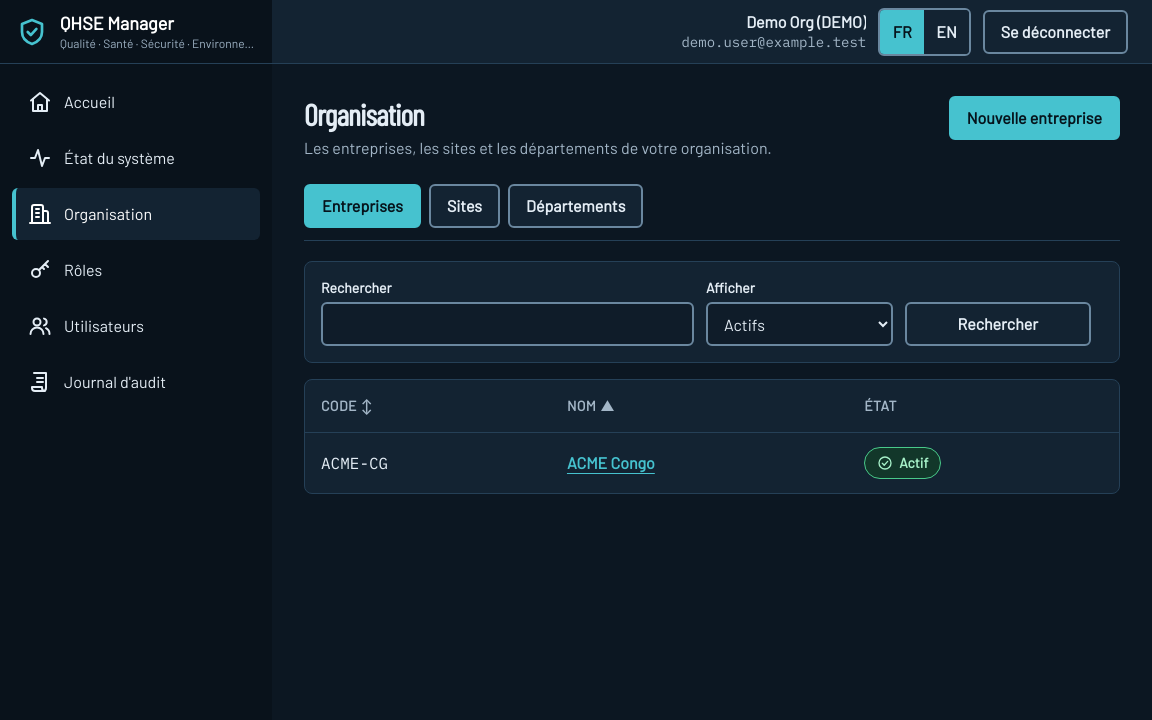
Test: organisation lists › opens on the companies and switches between the three lists
Expected: the link "ACME Congo" is shown, top-left (567, 453), bottom-right (655, 472)
Click the link "Sites".
click(464, 206)  # box top-left (429, 184), bottom-right (500, 228)
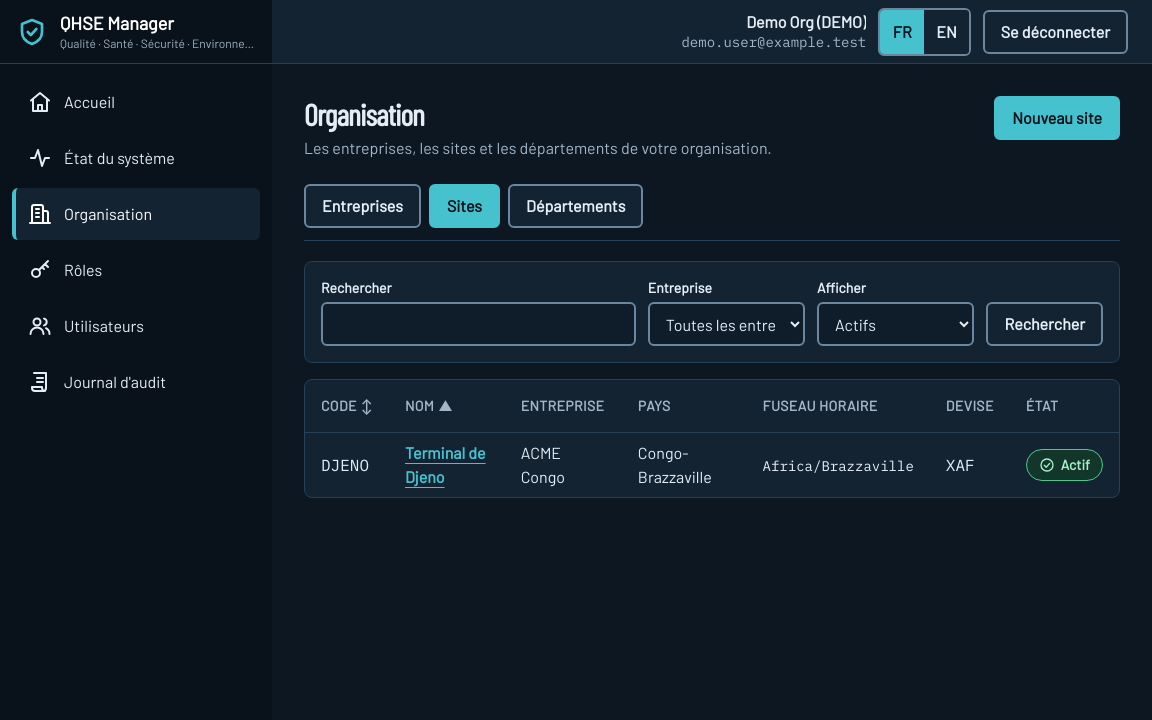
Result: the link "Terminal de Djeno" is shown at top-left (405, 441), bottom-right (489, 489)
# Each list is its own page: the tabs were re-rendered.
Click the link "Départements".
click(576, 206)  # box top-left (508, 184), bottom-right (643, 228)
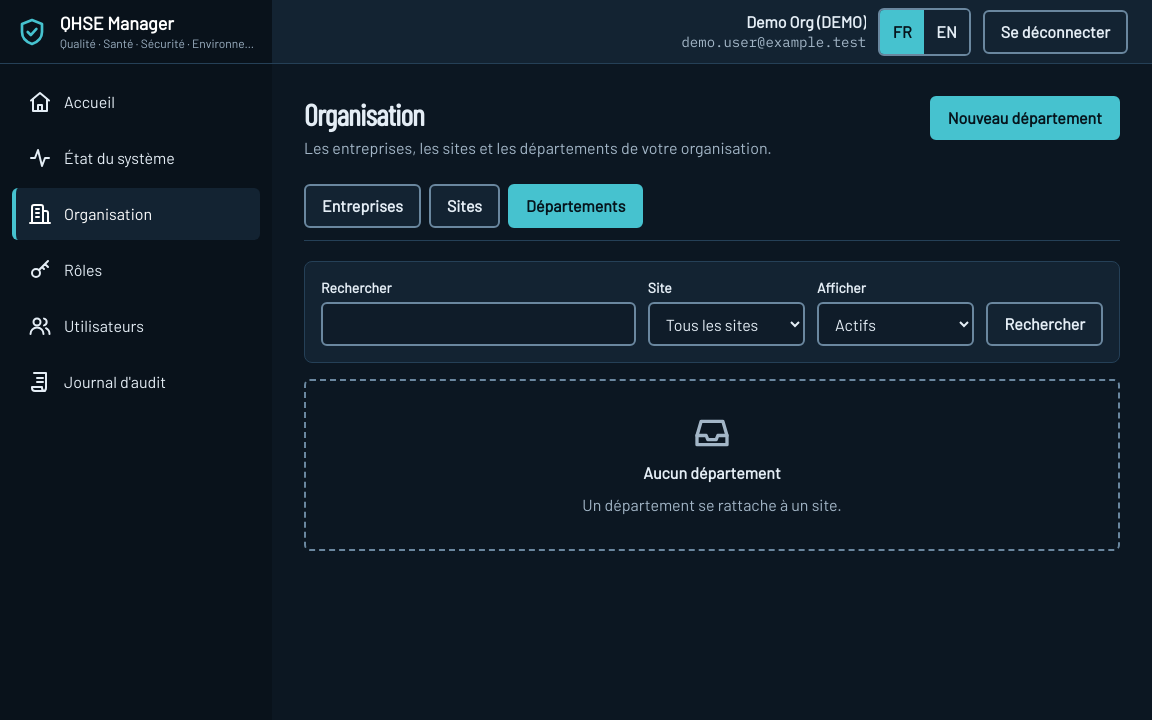
Result: the text "Aucun département" is shown at top-left (643, 461), bottom-right (781, 485)
Result: the text "Un département se rattache à un site." is shown at top-left (582, 493), bottom-right (842, 517)
